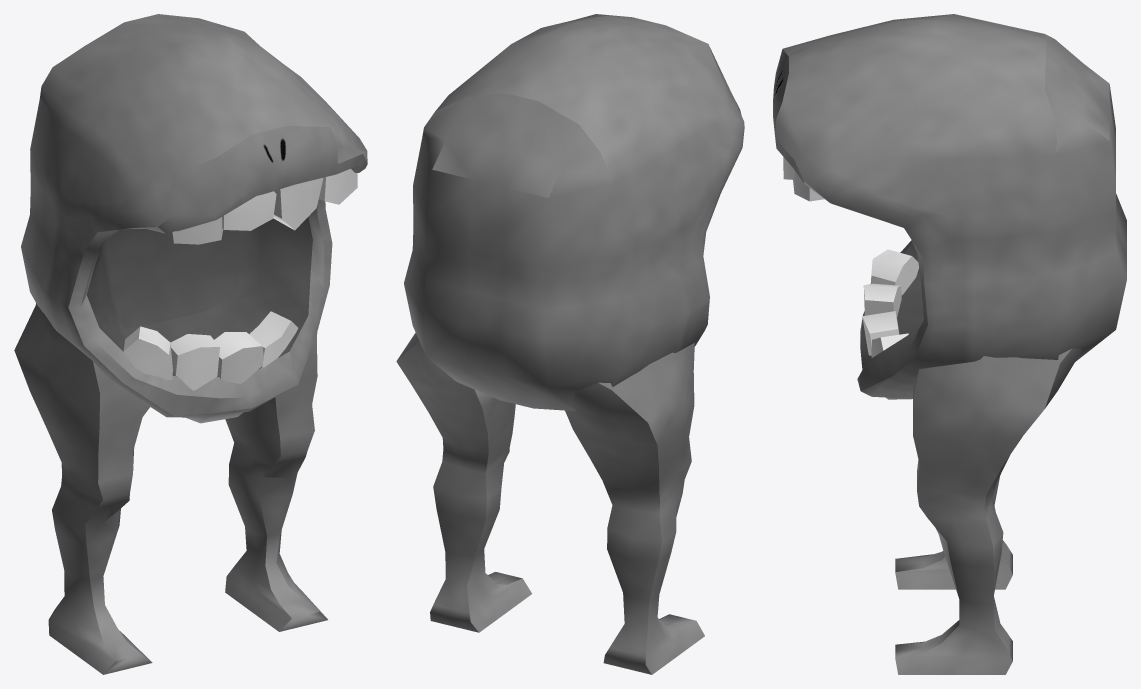
The model's file is night.fbx.
The picture shows the model from 3 angles, left to right: view 1: azimuth 30°, elevation 25°; view 2: azimuth 150°, elevation 25°; view 3: azimuth 270°, elevation 25°; orthographic projection.
Visible parts, largest first — view 1: polySurface15; view 2: polySurface15; view 3: polySurface15.
Part boxes in pixels (left/top/right/bottom): polySurface15: left=14, top=14, right=367, bottom=674; polySurface15: left=396, top=14, right=744, bottom=674; polySurface15: left=773, top=14, right=1126, bottom=674.
Size of the model in its own units: 10.63 by 22.61 by 12.26.
1 material, 1 textured.
